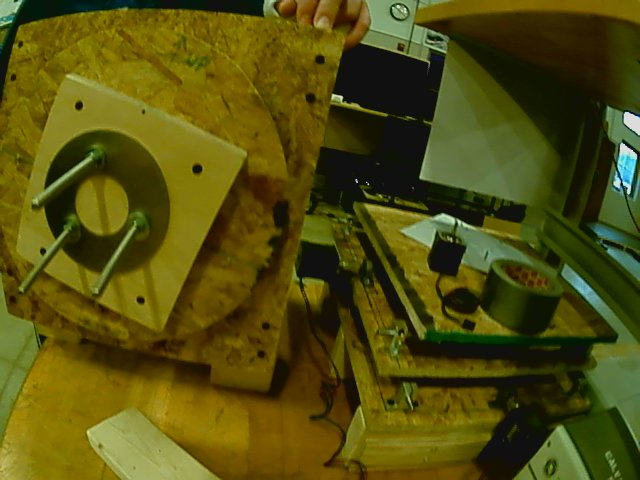bolt: (124, 210, 154, 243), (60, 214, 83, 248), (81, 144, 107, 174)
